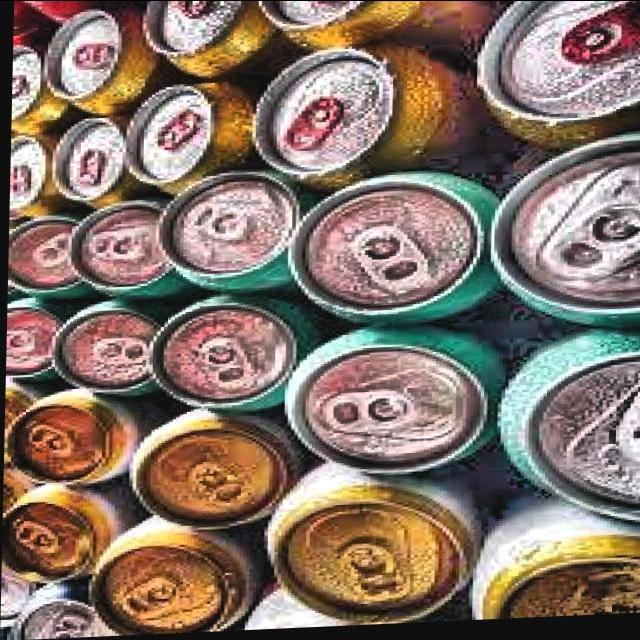Aluminum Can: (251, 458, 478, 632), (281, 167, 502, 336), (278, 322, 494, 486), (245, 40, 480, 190), (478, 134, 640, 346), (483, 324, 640, 535), (466, 0, 640, 159), (82, 514, 280, 636), (468, 494, 640, 624), (122, 410, 293, 537), (138, 292, 304, 418), (148, 167, 301, 300), (119, 79, 251, 205), (2, 383, 134, 493), (244, 0, 476, 61), (35, 0, 151, 119), (2, 484, 128, 586), (66, 196, 186, 298), (52, 300, 172, 398), (132, 0, 267, 82), (49, 112, 130, 206), (6, 209, 81, 297), (9, 27, 60, 134), (4, 297, 66, 382), (8, 130, 66, 217)
